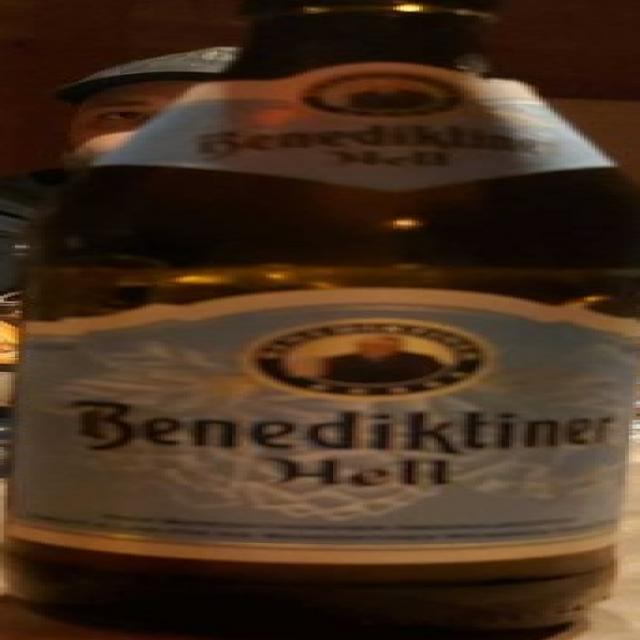Benediktiner Hell: (0, 1, 640, 640)
